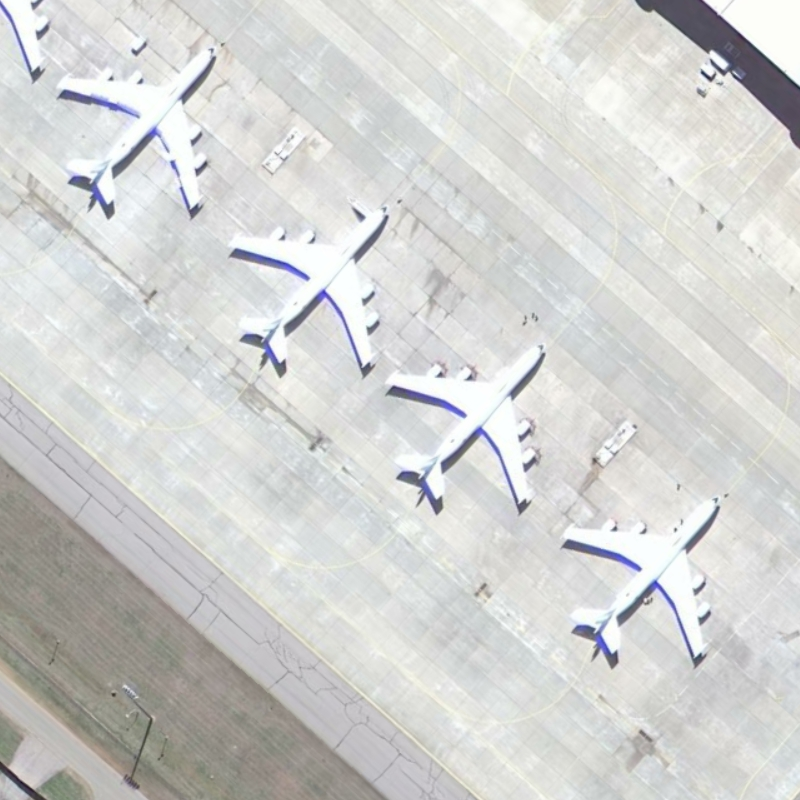A11: (54, 34, 224, 227), (559, 490, 729, 678), (384, 339, 553, 523), (222, 200, 393, 380)
